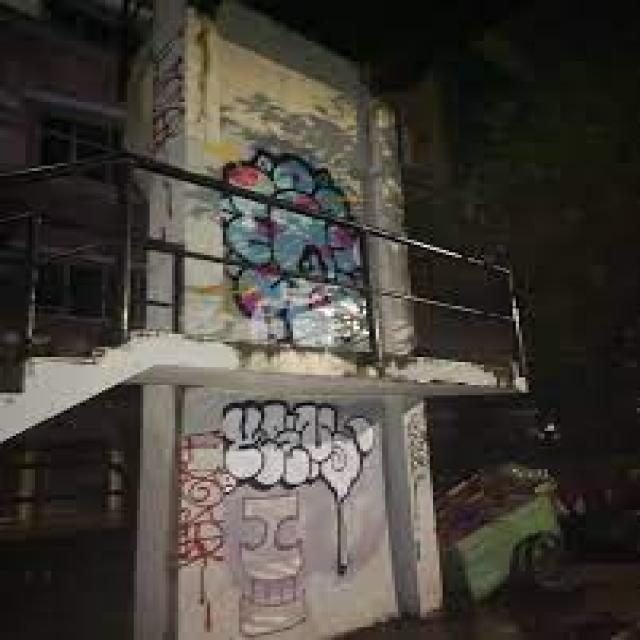-: (225, 148, 368, 320), (216, 396, 380, 498), (242, 490, 309, 634), (176, 435, 233, 571), (152, 30, 190, 146)
